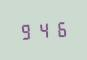four: (35, 20, 50, 39)
nine: (18, 21, 33, 40)
six: (51, 19, 66, 38)
